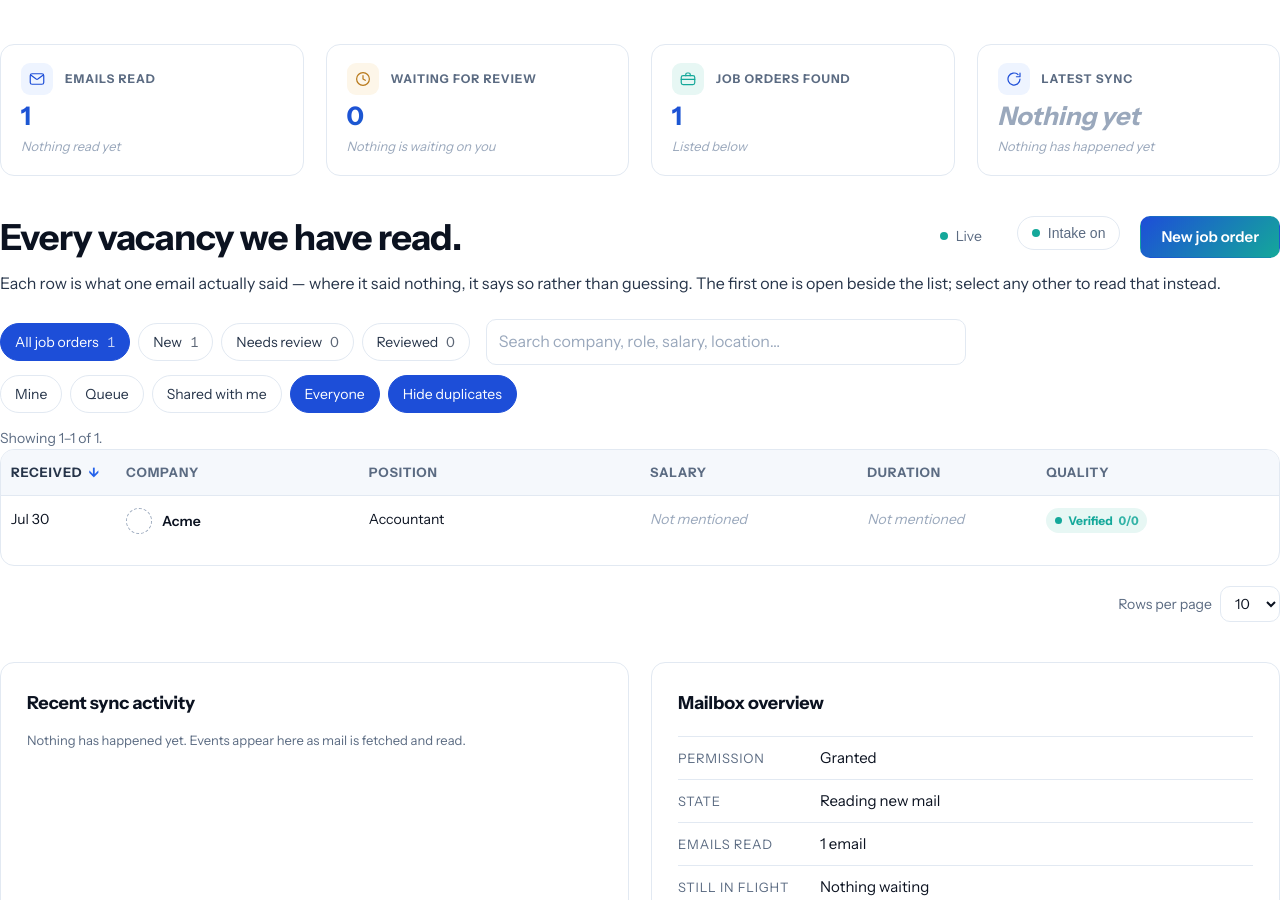
Test: typing in a job order › has no separate Company field — the Client picker is the one place the name is typed
This screenshot has width=1280, height=900.
Click the button "New job order" at [1210, 237], box [1140, 216, 1279, 258]
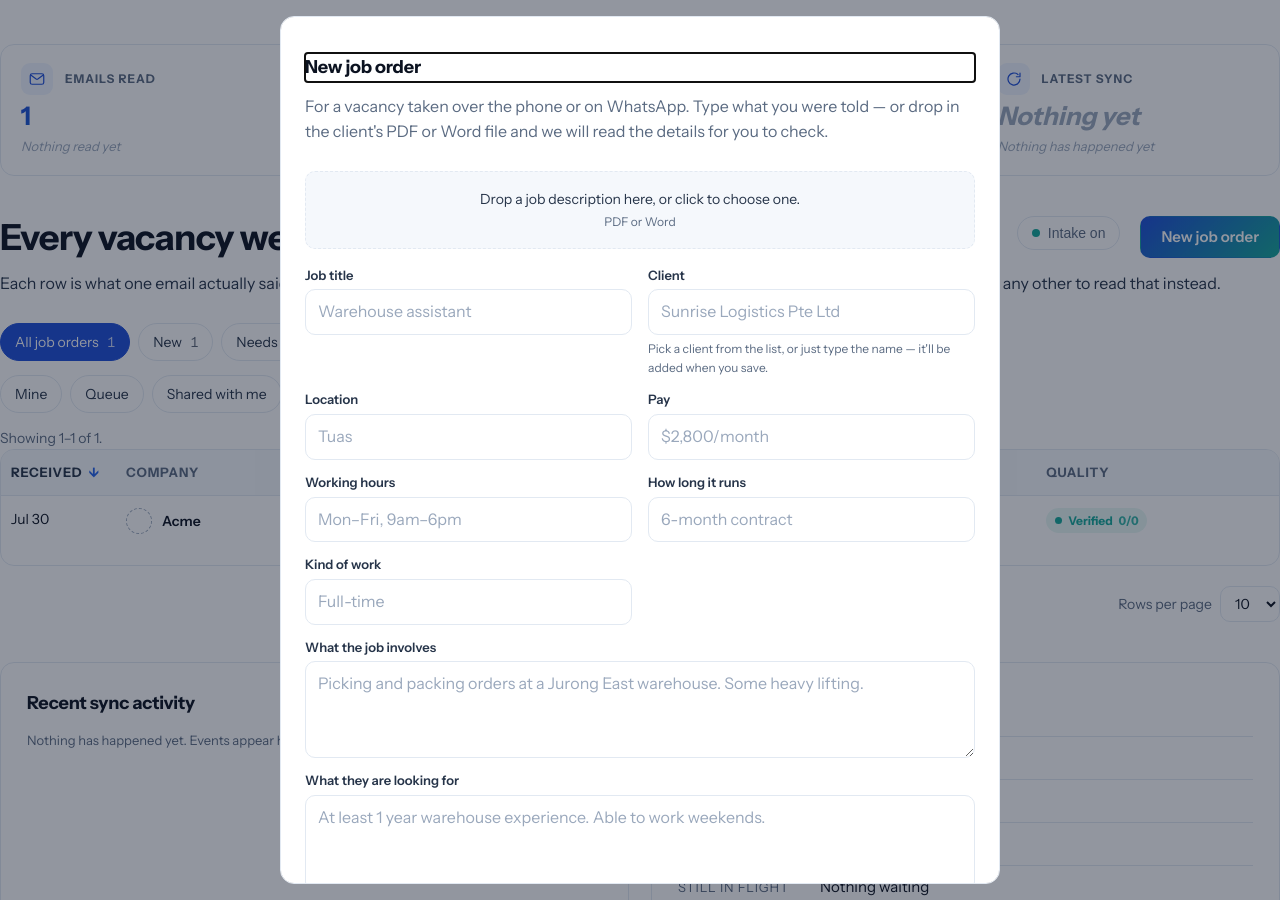
Expected: the dialog is shown, [280, 16, 1000, 884]
Expected: the number of dropdowns labelled "Client" is 1, [648, 289, 975, 335]
